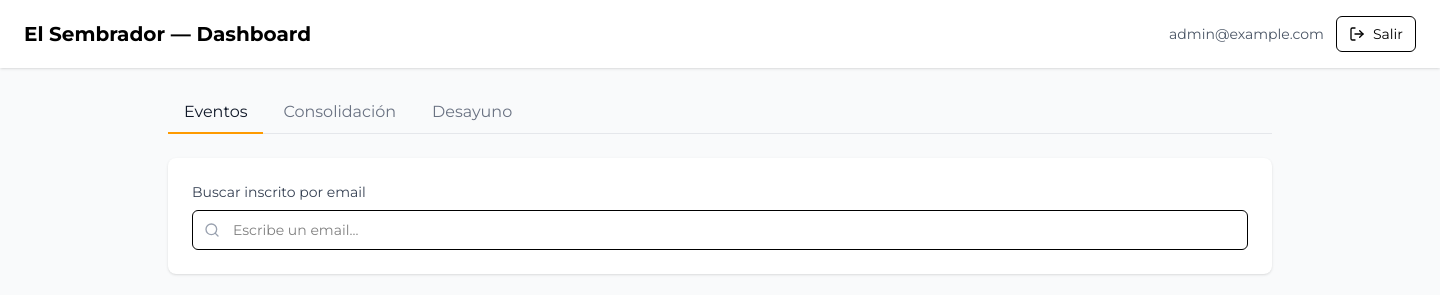
Dashboard shell › keeps the shell when the consolidation section fails
The width and height of the screenshot is (1440, 295).
What coordinates should you click on to do the following:
click the tab "Consolidación"
I would click on:
 (340, 113)
Its box is left=268, top=92, right=412, bottom=134.
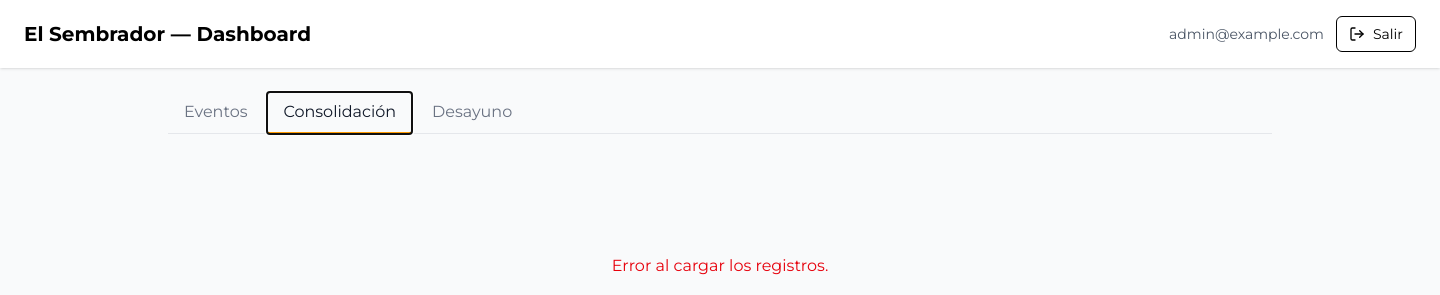
Expected: the button "Salir" is shown, left=1336, top=16, right=1416, bottom=52
Expected: the text "Error al cargar los registros." is shown, left=612, top=254, right=828, bottom=278
